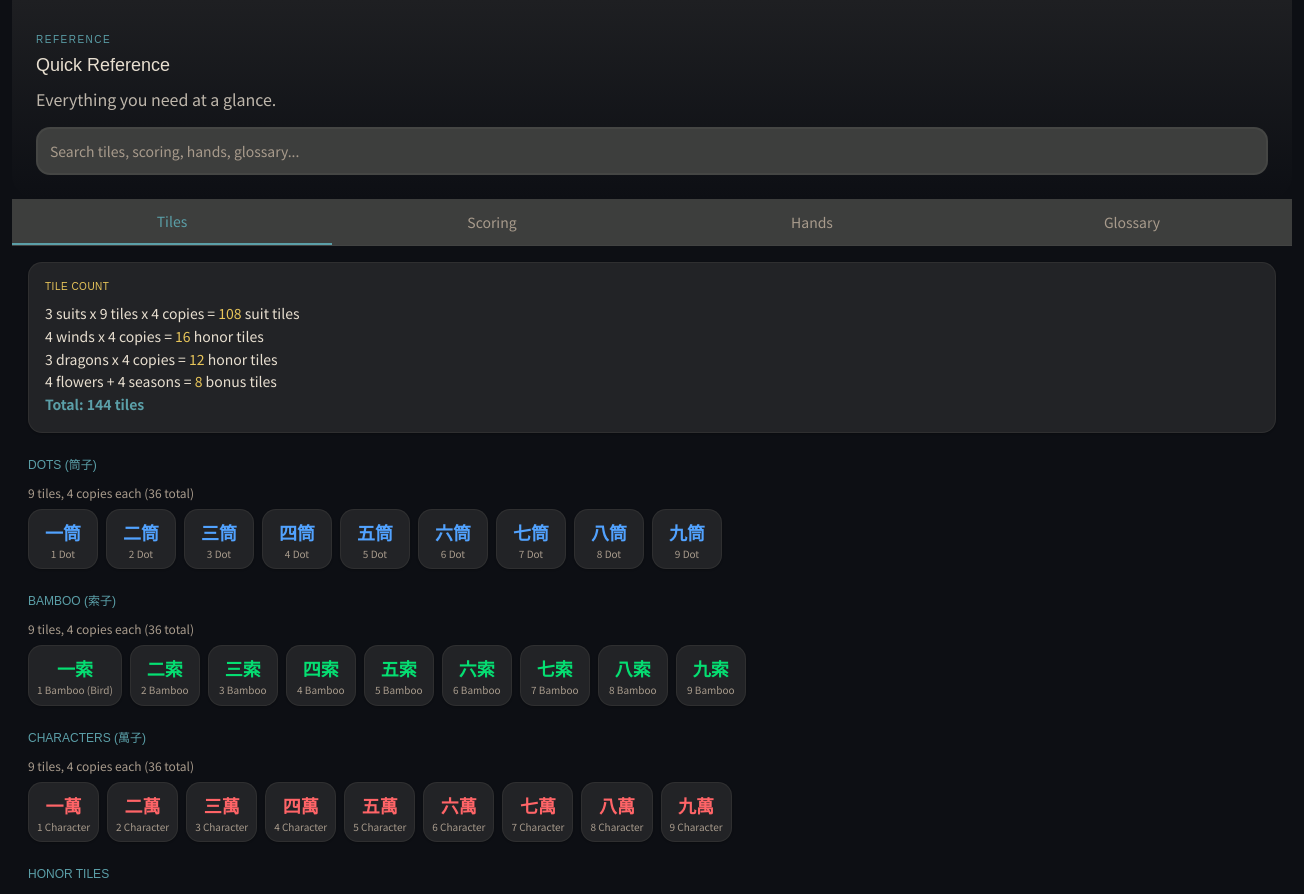
ReferencePage › clicking "Hands" tab shows limit hands
Click the tab "Hands".
click(812, 222)  # box [652, 199, 972, 245]
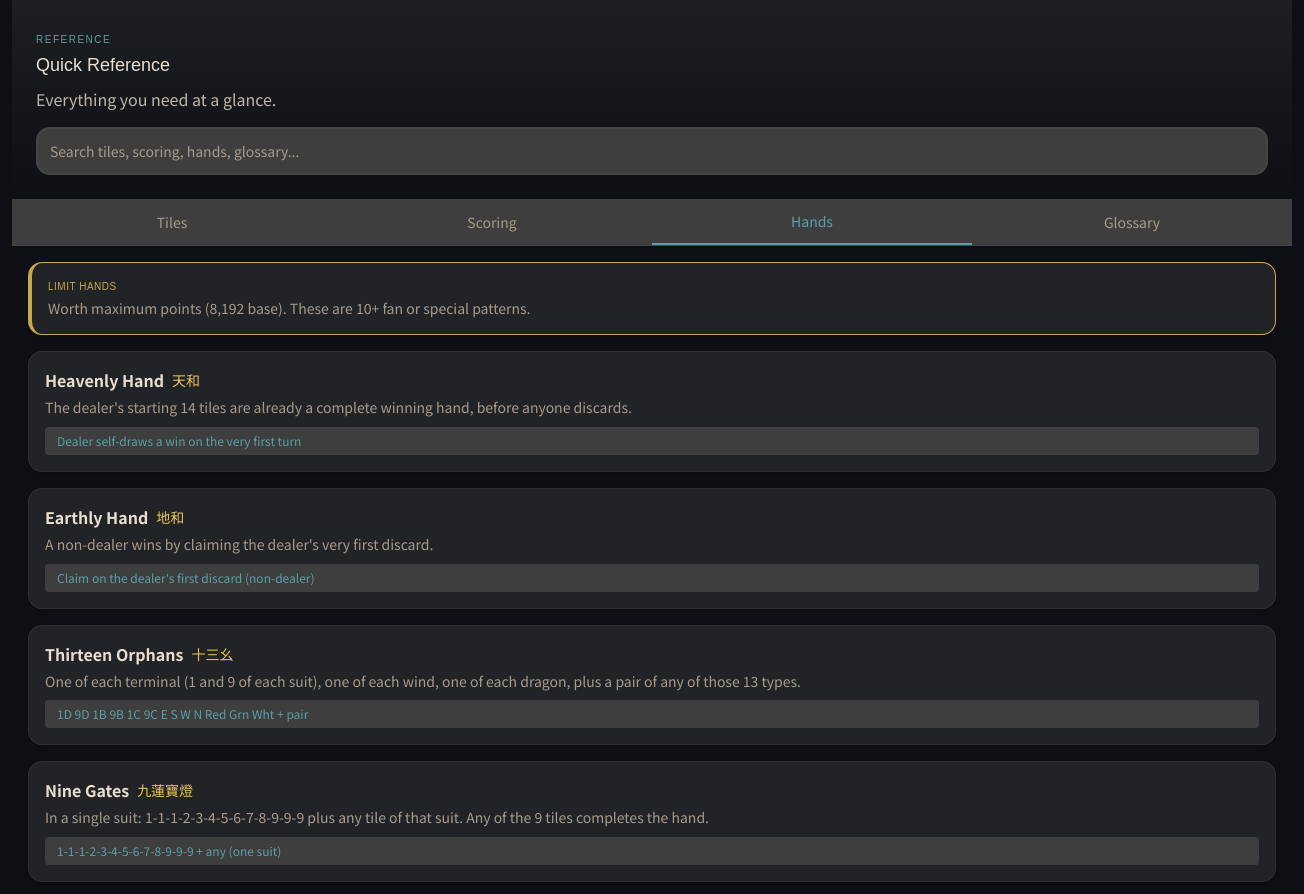
expect the heading "Thirteen Orphans" is shown: met, box [45, 642, 183, 666]
expect the text "LIMIT HANDS" is shown: met, box [48, 281, 117, 292]
